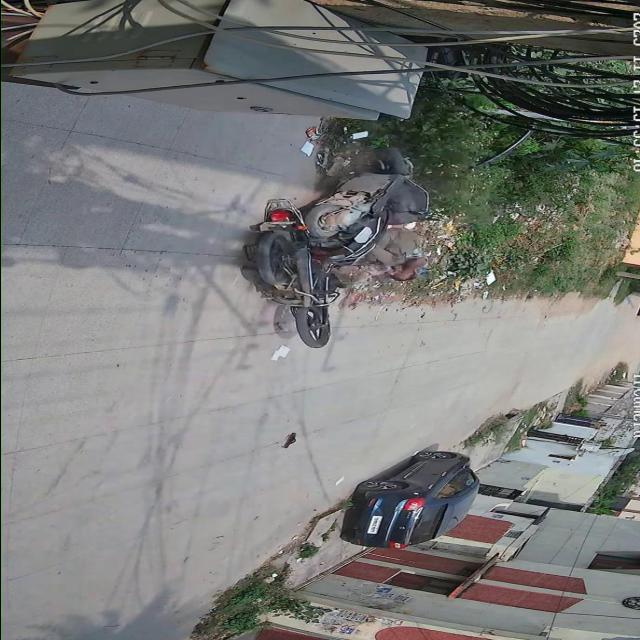accident: (240, 138, 452, 354)
